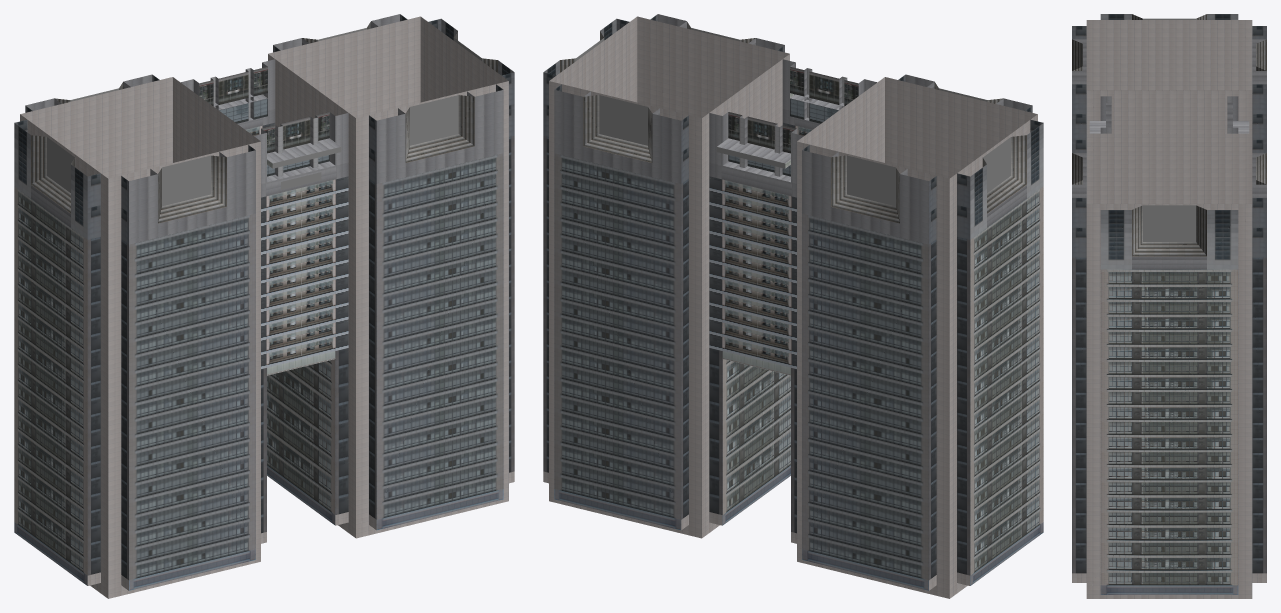
The model's file is side building10.FBX.
The picture shows the model from 3 angles, left to right: view 1: azimuth 30°, elevation 25°; view 2: azimuth 150°, elevation 25°; view 3: azimuth 270°, elevation 25°; orthographic projection. The views are drawn at different scales.
Visible parts, largest first — view 1: lou2_01; view 2: lou2_01; view 3: lou2_01.
Part boxes in pixels (x1,y1,x2,y2): lou2_01: (14, 14, 514, 598); lou2_01: (543, 14, 1043, 598); lou2_01: (1072, 14, 1266, 598).
Size of the model in its own units: 84.55 by 35.5 by 80.5.
